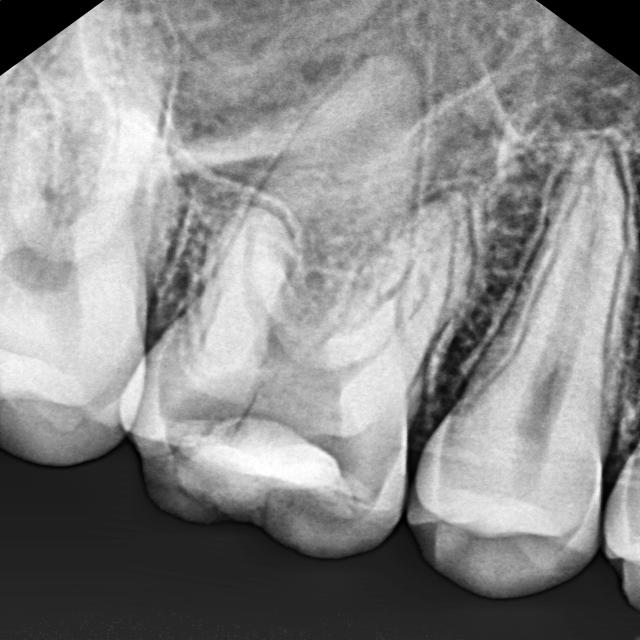Normal: (142, 46, 413, 562), (424, 108, 629, 600)
